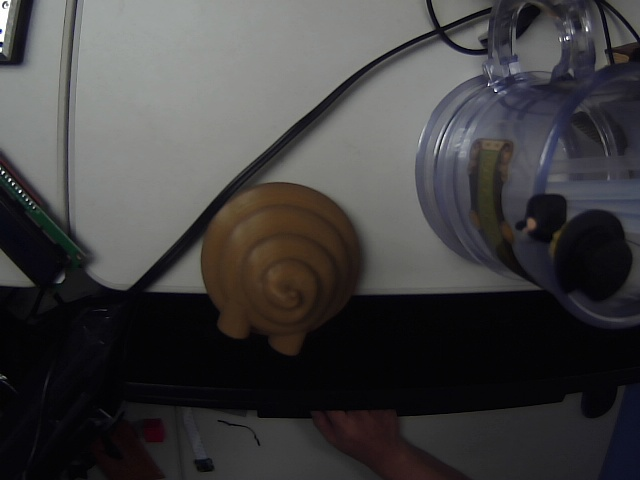shit: (198, 177, 371, 362)
